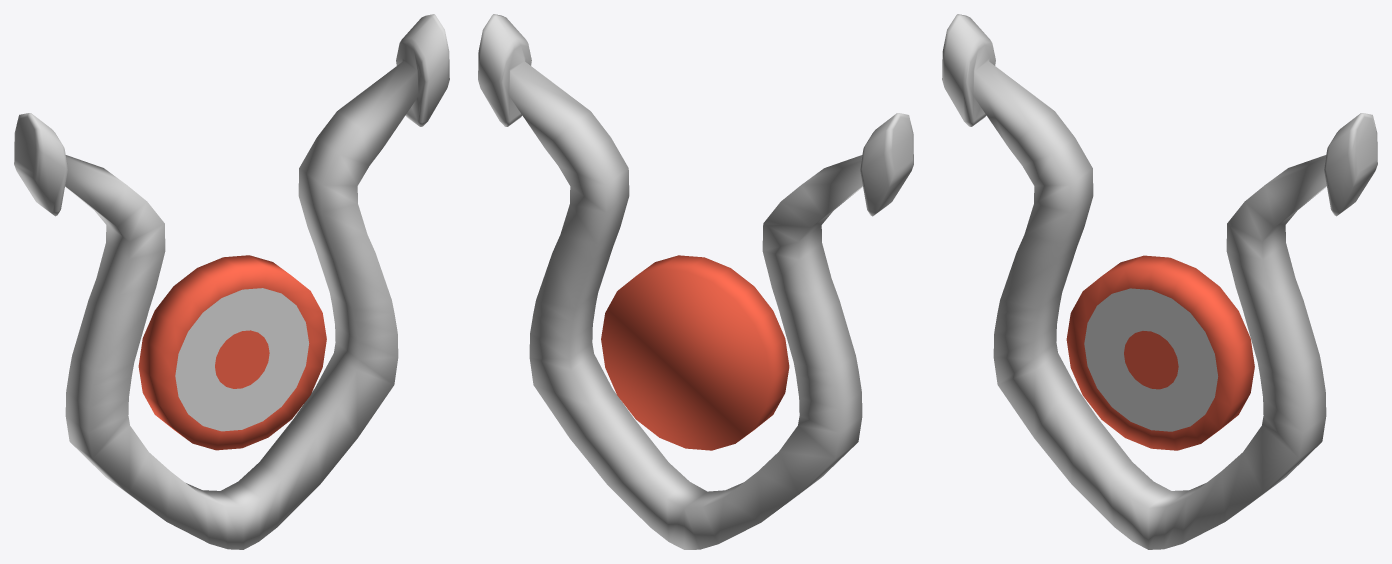
File: PracticeTarget.fbx
3 views of the same model, side by side, from view 1: azimuth 30°, elevation 25°; view 2: azimuth 150°, elevation 25°; view 3: azimuth 330°, elevation 25° (orthographic).
Visible parts, largest first — view 1: PracticeTarget; view 2: PracticeTarget; view 3: PracticeTarget.
Part boxes in pixels (x1,y1,x2,y2): PracticeTarget: (14,14,449,549); PracticeTarget: (478,14,913,549); PracticeTarget: (942,14,1377,549).
Bounding box in the file's own units: 104 × 114 × 13.46.
